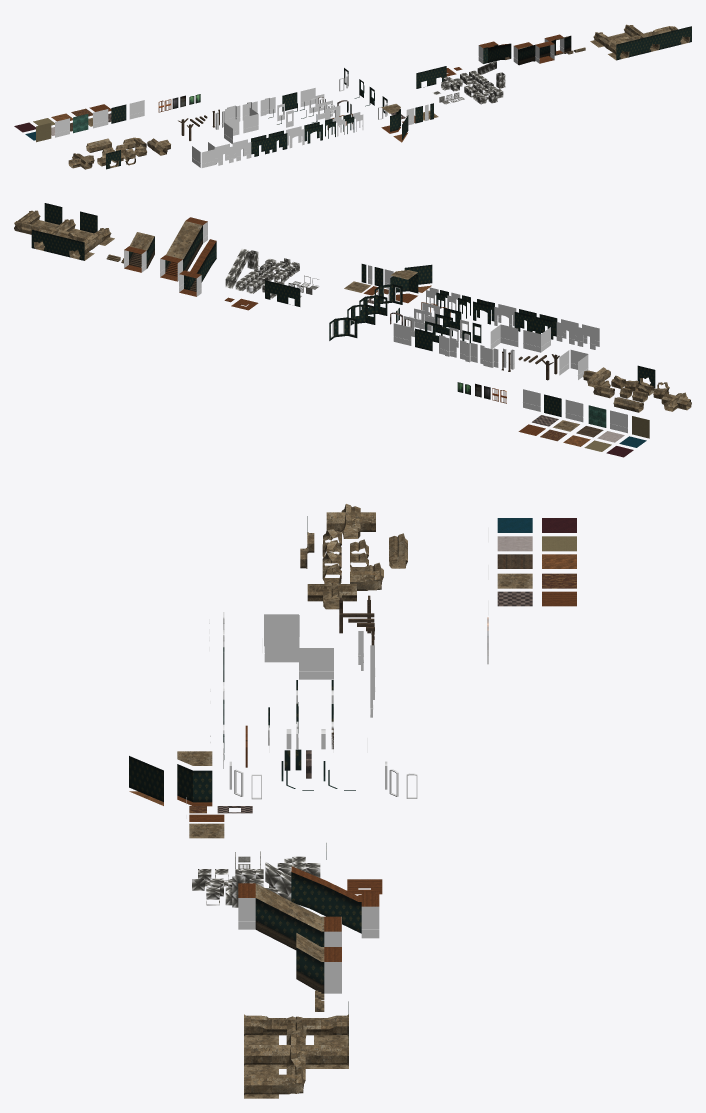
Rendered from PSX House Kit.fbx.
3 views of the same model, one above another, from view 1: azimuth 30°, elevation 25°; view 2: azimuth 150°, elevation 25°; view 3: azimuth 270°, elevation 25° (orthographic). The views are drawn at different scales.
Visible parts, largest first — view 1: Plain Wall Tiny.002, Destroyed Tunnel X, Wood Wall Corner 1, Wood Wall Corner 2, Wood Wall Wide Stairs, Destroyed Tunnel T, Plain Wall.004, Wood Wall.001, Wood Wall.004, Plain Wall.001, Plain Wall.006, Plain Wall.005 (+3 smaller); view 2: Wide Stairs Ceiling, Plain Wall Tiny.002, Wood Wall Corner 1, Wood Wall Corner 2, Ceiling Small Stairs, Vent Floor Change, Destroyed Tunnel X; view 3: Plain Wall Tiny.002, Wood Wall Wide Stairs.001, Ceiling Small Stairs, Destroyed Tunnel X, Plain Wall Triple Corner, Wood Wall Corner 2, Plain Wall Cross, Wood Wall Corner 1, Wide Stairs Ceiling, Destroyed Tunnel T, Destroyed Tunnel Demo 2.
Boxes of the visible parts, box(x1,y1,x2,y2) form: Plain Wall Tiny.002: box(483, 43, 511, 63); Destroyed Tunnel X: box(68, 153, 94, 169); Wood Wall Corner 1: box(243, 108, 258, 133); Wood Wall Corner 2: box(224, 118, 239, 143); Wood Wall Wide Stairs: box(518, 45, 535, 65); Destroyed Tunnel T: box(147, 138, 170, 155); Plain Wall.004: box(111, 104, 126, 123); Wood Wall.001: box(129, 100, 144, 119); Wood Wall.004: box(93, 109, 108, 128); Plain Wall.001: box(631, 37, 646, 56); Plain Wall.006: box(73, 114, 88, 133); Plain Wall.005: box(36, 123, 51, 142); Wide Stairs Ceiling: box(165, 221, 202, 259); Plain Wall Tiny.002: box(184, 239, 216, 291); Wood Wall Corner 1: box(490, 324, 518, 348); Wood Wall Corner 2: box(523, 327, 550, 352); Ceiling Small Stairs: box(129, 232, 154, 268); Vent Floor Change: box(225, 248, 248, 288); Destroyed Tunnel X: box(661, 392, 691, 411); Plain Wall Tiny.002: box(291, 866, 361, 933); Wood Wall Wide Stairs.001: box(255, 898, 324, 949); Ceiling Small Stairs: box(296, 933, 324, 993); Destroyed Tunnel X: box(326, 504, 375, 538); Plain Wall Triple Corner: box(177, 764, 212, 802); Wood Wall Corner 2: box(264, 614, 299, 647); Plain Wall Cross: box(129, 756, 163, 801); Wood Wall Corner 1: box(299, 648, 333, 679); Wide Stairs Ceiling: box(255, 883, 324, 931); Destroyed Tunnel T: box(307, 582, 356, 609); Destroyed Tunnel Demo 2: box(272, 1036, 320, 1064).
Size of the model in its own units: 15688 by 1107 by 5116.
